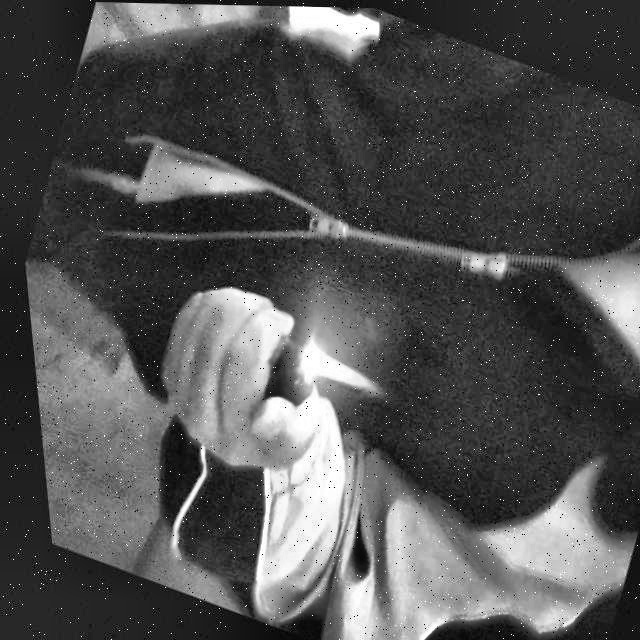Fire: (300, 346, 370, 394)
